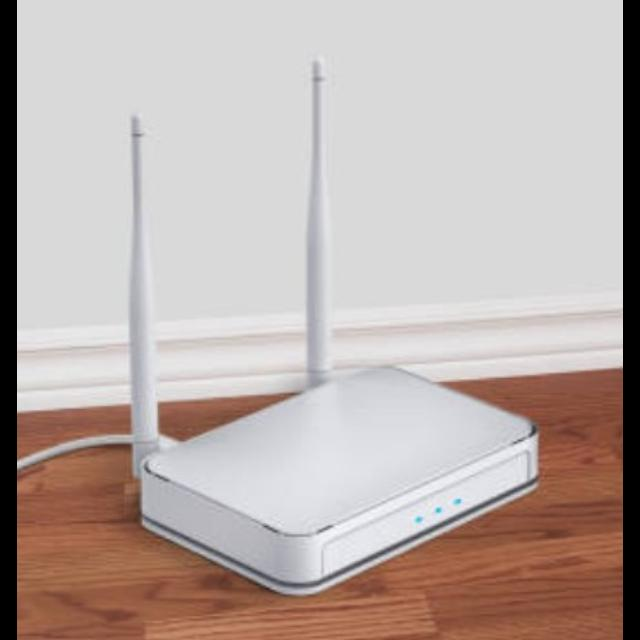Router: (128, 56, 540, 601)
